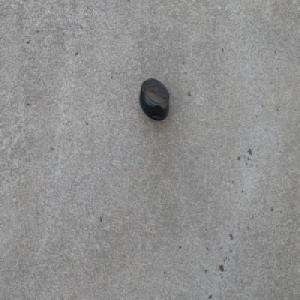FuelCap: (138, 77, 170, 123)
